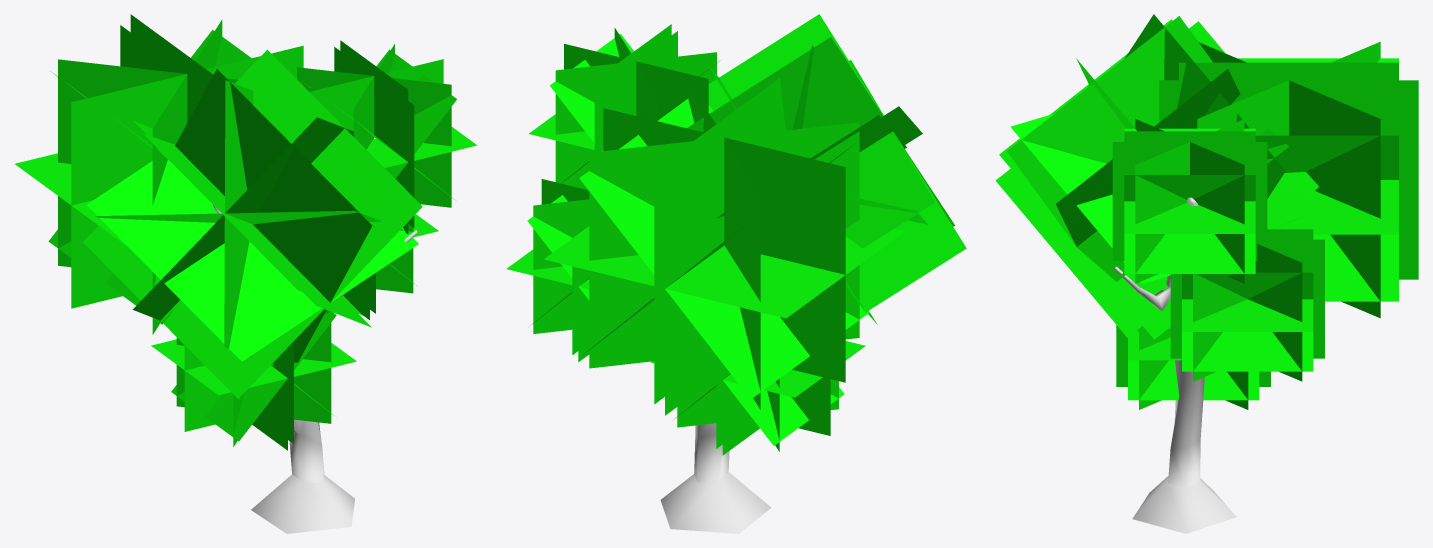
Rendered from tree.FBX.
3 renders of one model, left to right at view 1: azimuth 30°, elevation 25°; view 2: azimuth 150°, elevation 25°; view 3: azimuth 270°, elevation 25°, orthographic. The views are drawn at different scales.
Parts seen in each view (by area): view 1: Plane022, Plane019, Plane020, Plane015, Cylinder007, Plane023, Plane018, Plane042, Plane024, Plane041, Plane034, Plane021 (+19 smaller); view 2: Plane015, Plane016, Plane012, Plane011, Plane023, Plane017, Plane013, Plane024, Cylinder007, Plane026, Plane018, Plane040 (+21 smaller); view 3: Plane020, Plane016, Cylinder007, Plane013, Plane025, Plane011, Plane017, Plane038, Plane006, Plane014, Plane019, Plane042 (+21 smaller).
Boxes of the visible parts, x1,y1,x2,y2 form: Plane022: (87, 160, 418, 361); Plane019: (83, 49, 422, 398); Plane020: (175, 69, 372, 362); Plane015: (71, 45, 303, 308); Cylinder007: (212, 137, 417, 533); Plane023: (132, 117, 353, 320); Plane018: (58, 59, 316, 267); Plane042: (297, 67, 451, 207); Plane024: (224, 80, 273, 365); Plane041: (334, 47, 414, 227); Plane034: (176, 310, 331, 423); Plane021: (142, 133, 362, 315); Plane015: (603, 108, 845, 382); Plane016: (589, 122, 859, 368); Plane012: (579, 98, 869, 399); Plane011: (544, 226, 904, 318); Plane023: (708, 14, 966, 312); Plane017: (654, 96, 785, 404); Plane013: (665, 78, 781, 415); Plane024: (687, 37, 954, 226); Cylinder007: (660, 423, 771, 533); Plane026: (845, 60, 934, 248); Plane018: (688, 81, 760, 409); Plane040: (555, 52, 716, 189); Plane020: (1007, 16, 1212, 332); Plane016: (1199, 42, 1380, 318); Cylinder007: (1114, 197, 1236, 533); Plane013: (1179, 62, 1398, 135); Plane025: (995, 21, 1318, 337); Plane011: (1267, 180, 1398, 234); Plane017: (1159, 80, 1418, 279); Plane038: (1124, 128, 1255, 273); Plane006: (1182, 332, 1313, 371); Plane014: (1237, 58, 1398, 301); Plane019: (1056, 69, 1240, 246); Plane042: (1135, 119, 1244, 283).
Bounding box in the file's own units: 1748 × 2217 × 1883.
